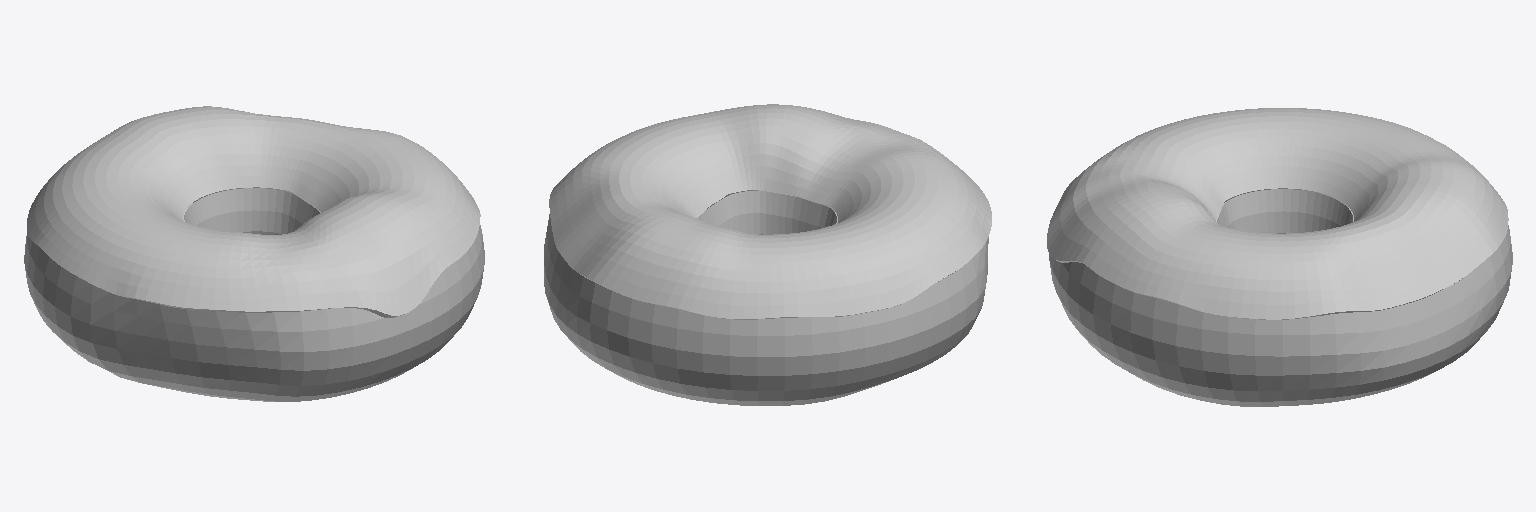
File: donuts.obj
3 views of the same model, side by side, from view 1: azimuth 30°, elevation 25°; view 2: azimuth 150°, elevation 25°; view 3: azimuth 270°, elevation 25° (orthographic).
Visible parts, largest first — view 1: icing_Torus.003, donuts_Torus.002; view 2: icing_Torus.003, donuts_Torus.002; view 3: icing_Torus.003, donuts_Torus.002.
Boxes of the visible parts, x1=… form: icing_Torus.003: x1=27, y1=106, x2=480, y2=317; donuts_Torus.002: x1=24, y1=188, x2=484, y2=401; icing_Torus.003: x1=549, y1=104, x2=991, y2=319; donuts_Torus.002: x1=544, y1=190, x2=988, y2=405; icing_Torus.003: x1=1047, y1=108, x2=1508, y2=319; donuts_Torus.002: x1=1049, y1=189, x2=1512, y2=406.
Size of the model in its own units: 0.1558 by 0.0634 by 0.1576.